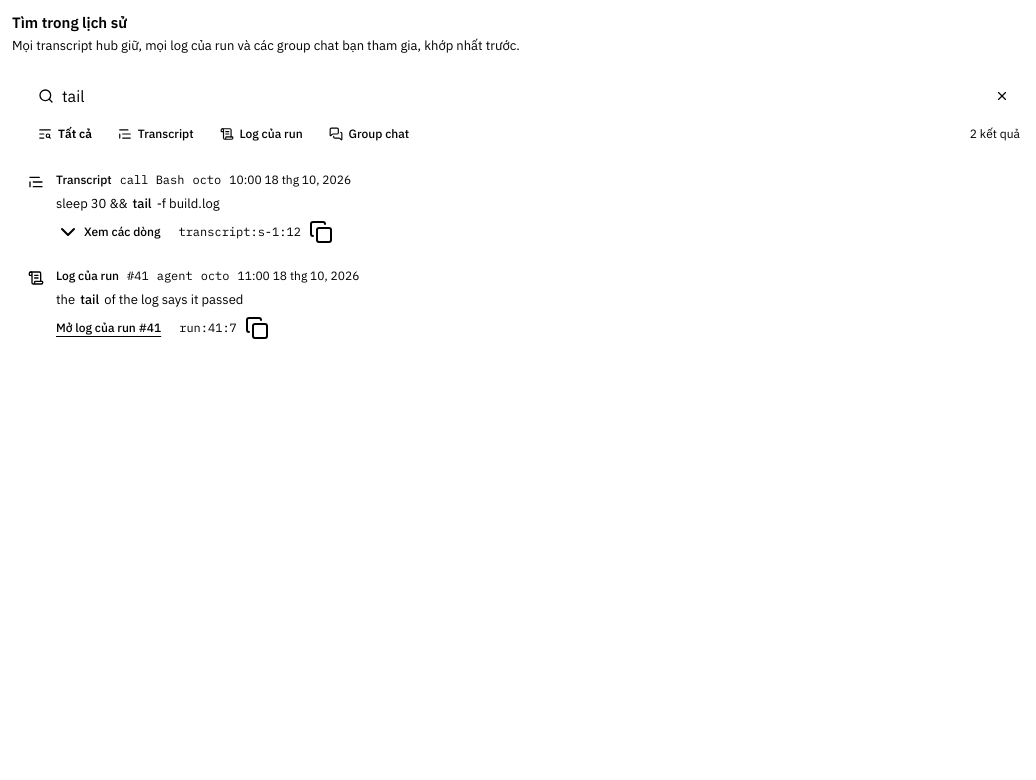
Test: HistorySearchSection › lists the hits best first, the matched words marked, each leading where it was found
Expected: the text "tail" next to "sleep 30 &&" is shown, [132,194,152,212]
Expected: the text with test id "history-search-total" reads "2 kết quả", [970,126,1020,140]
Click the button with test id "history-hit-lines". click: x=108, y=232
box: [56,220,160,244]
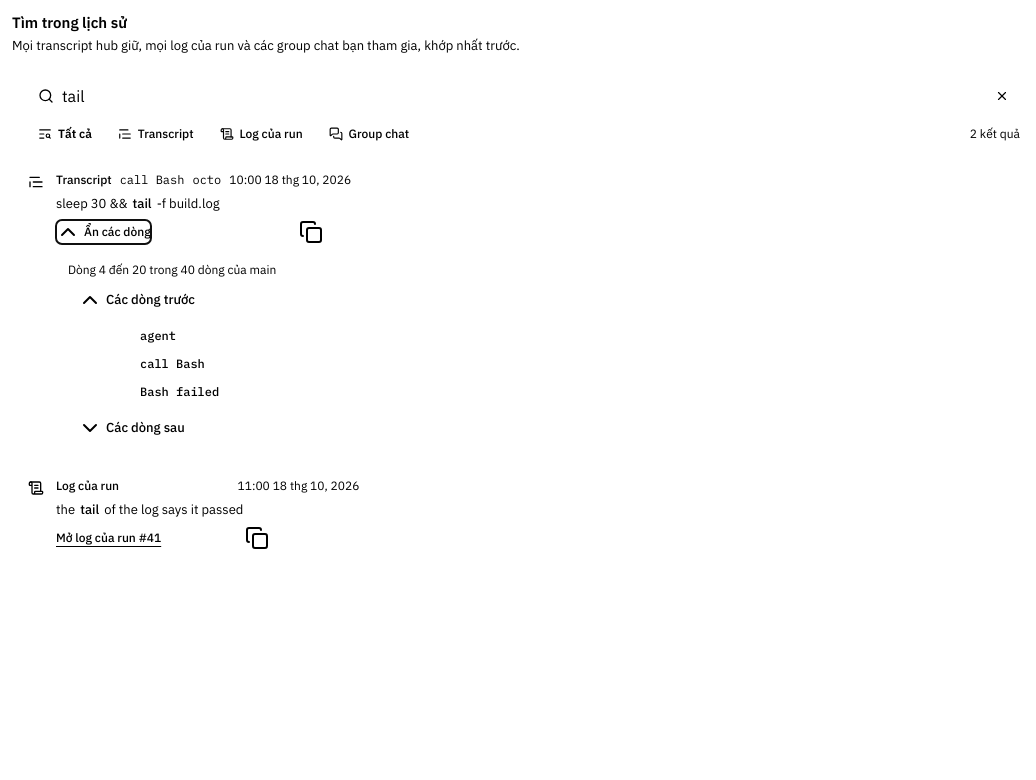
Expected: the text with test id "history-hit-excerpt-span" reads "Dòng 4 đến 20 trong 40 dòng của main", [68,262,276,276]
